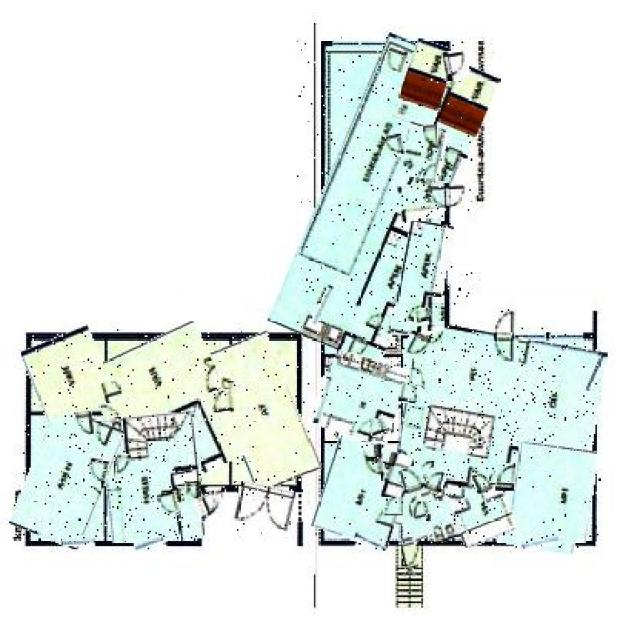door: (234, 483, 292, 537), (494, 309, 518, 366), (430, 183, 464, 208), (443, 48, 469, 80), (197, 492, 225, 520), (364, 445, 384, 480), (400, 466, 425, 494), (85, 459, 109, 486), (405, 334, 429, 361), (75, 406, 94, 436), (496, 463, 516, 491), (383, 48, 406, 72), (211, 391, 237, 412), (400, 538, 417, 570), (103, 380, 125, 403), (205, 488, 226, 510), (400, 385, 422, 406), (386, 135, 406, 157), (472, 471, 491, 494), (424, 471, 444, 492), (369, 417, 389, 437), (412, 500, 432, 520), (158, 492, 177, 512), (383, 497, 403, 515), (117, 454, 131, 477), (216, 377, 236, 391), (423, 124, 437, 144), (415, 309, 431, 326), (184, 483, 198, 502), (423, 162, 435, 184), (177, 486, 189, 500)
window: (314, 375, 329, 423), (315, 285, 331, 326), (522, 534, 558, 548), (354, 537, 388, 551), (134, 537, 164, 551), (589, 354, 600, 392), (61, 537, 95, 546)
zone: (297, 37, 472, 361), (394, 328, 600, 548), (96, 329, 242, 491), (218, 336, 311, 490), (20, 409, 114, 546), (103, 414, 202, 541), (317, 440, 408, 545), (511, 444, 595, 542), (320, 354, 403, 441), (26, 331, 109, 415), (397, 222, 449, 338), (397, 41, 451, 128), (452, 488, 514, 544), (402, 128, 444, 180), (397, 182, 445, 220), (424, 489, 458, 542), (398, 489, 429, 542), (174, 472, 198, 540), (428, 297, 444, 331)
